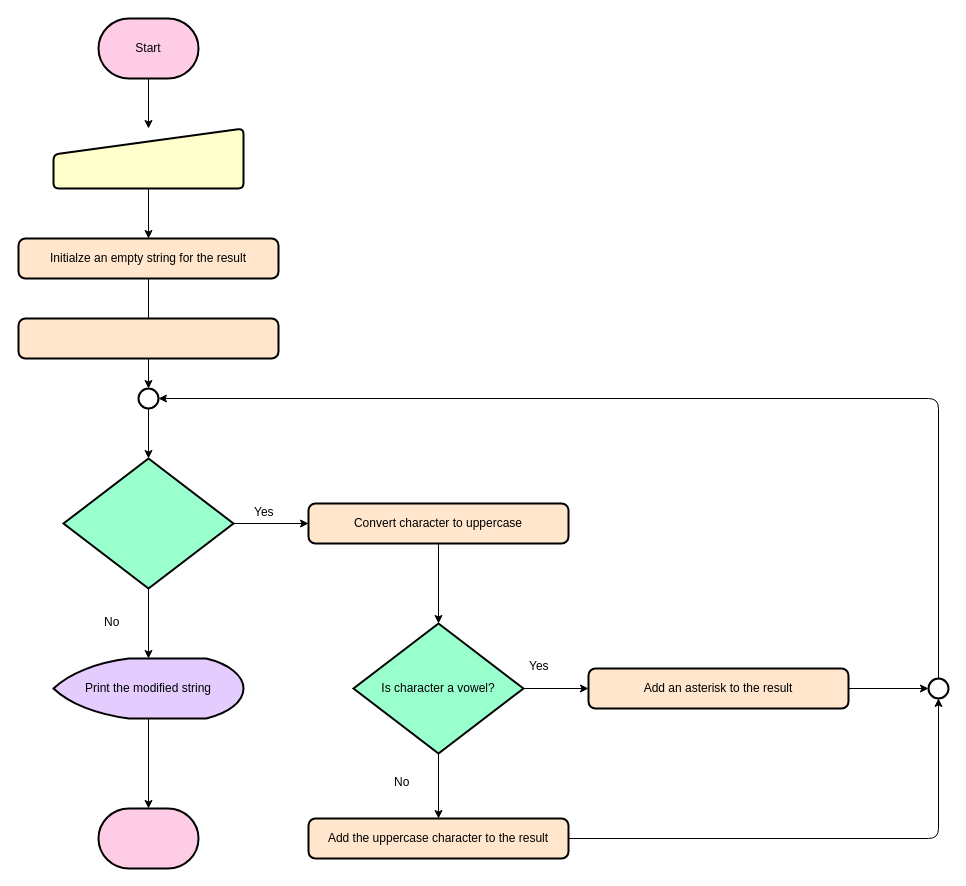
Some shapes in this 966 by 886 pixel diagram are drawn without their labels. Each missing label, with the box of its shape:
Define vowels as "aeiouAEIOU": (17, 317, 279, 359)
End: (97, 807, 199, 869)
More characters in tring?: (62, 457, 234, 589)
Read input string from the user: (52, 127, 244, 189)
